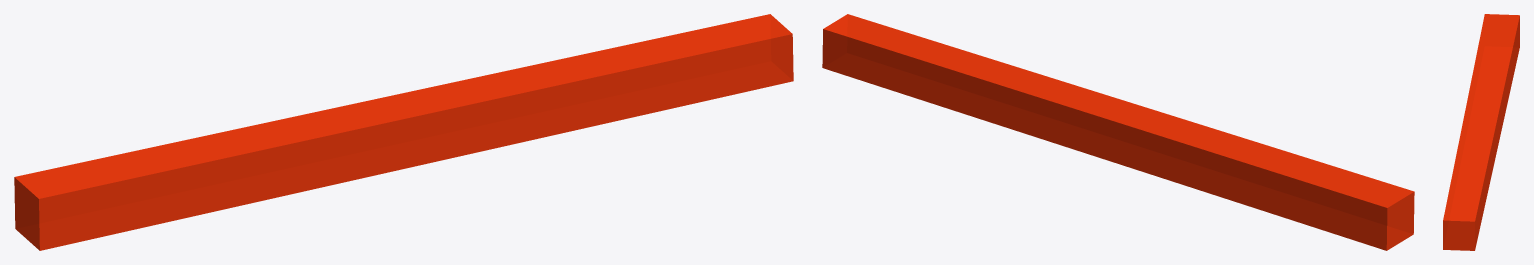
The model's file is Event_420094457_EErechit_19.fbx.
The picture shows the model from 3 angles, left to right: view 1: azimuth 30°, elevation 25°; view 2: azimuth 150°, elevation 25°; view 3: azimuth 270°, elevation 25°; orthographic projection. The views are drawn at different scales.
Parts seen in each view (by area): view 1: Model; view 2: Model; view 3: Model.
Boxes of the visible parts, left/top/right/bottom form: Model: left=14, top=14, right=793, bottom=250; Model: left=822, top=14, right=1414, bottom=250; Model: left=1443, top=14, right=1519, bottom=250.
Size of the model in its own units: 1.16 by 0.1017 by 0.174.
